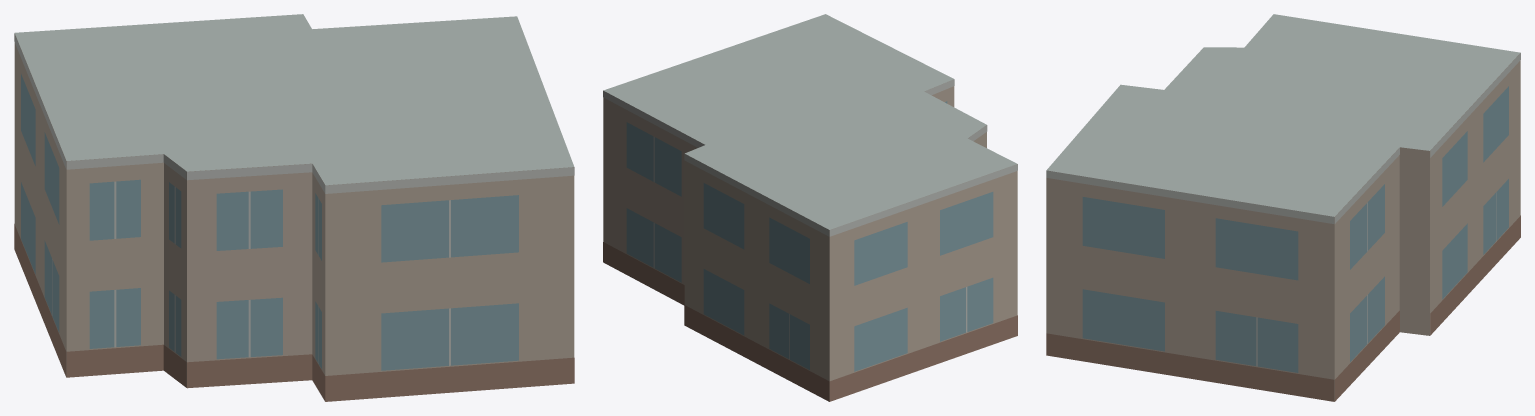
Rendered from survey-upis-32614397.glb.
The picture shows the model from 3 angles, left to right: view 1: azimuth 30°, elevation 25°; view 2: azimuth 150°, elevation 25°; view 3: azimuth 270°, elevation 25°; orthographic projection. The views are drawn at different scales.
Parts seen in each view (by area): view 1: survey-upis-32614397.tmp; view 2: survey-upis-32614397.tmp; view 3: survey-upis-32614397.tmp.
Part boxes in pixels (x1,y1,x2,y2): survey-upis-32614397.tmp: [14, 14, 574, 401]; survey-upis-32614397.tmp: [603, 14, 1017, 401]; survey-upis-32614397.tmp: [1046, 14, 1520, 401].
Bounding box in the file's own units: 14.35 × 6.1 × 14.18.
